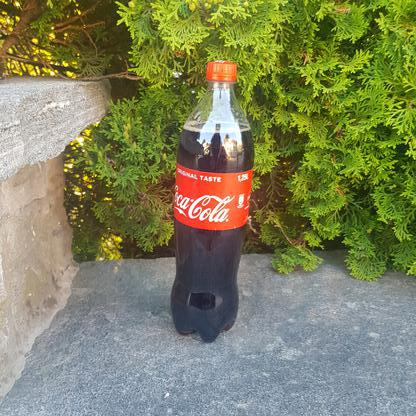coca-cola: (169, 58, 257, 345)
